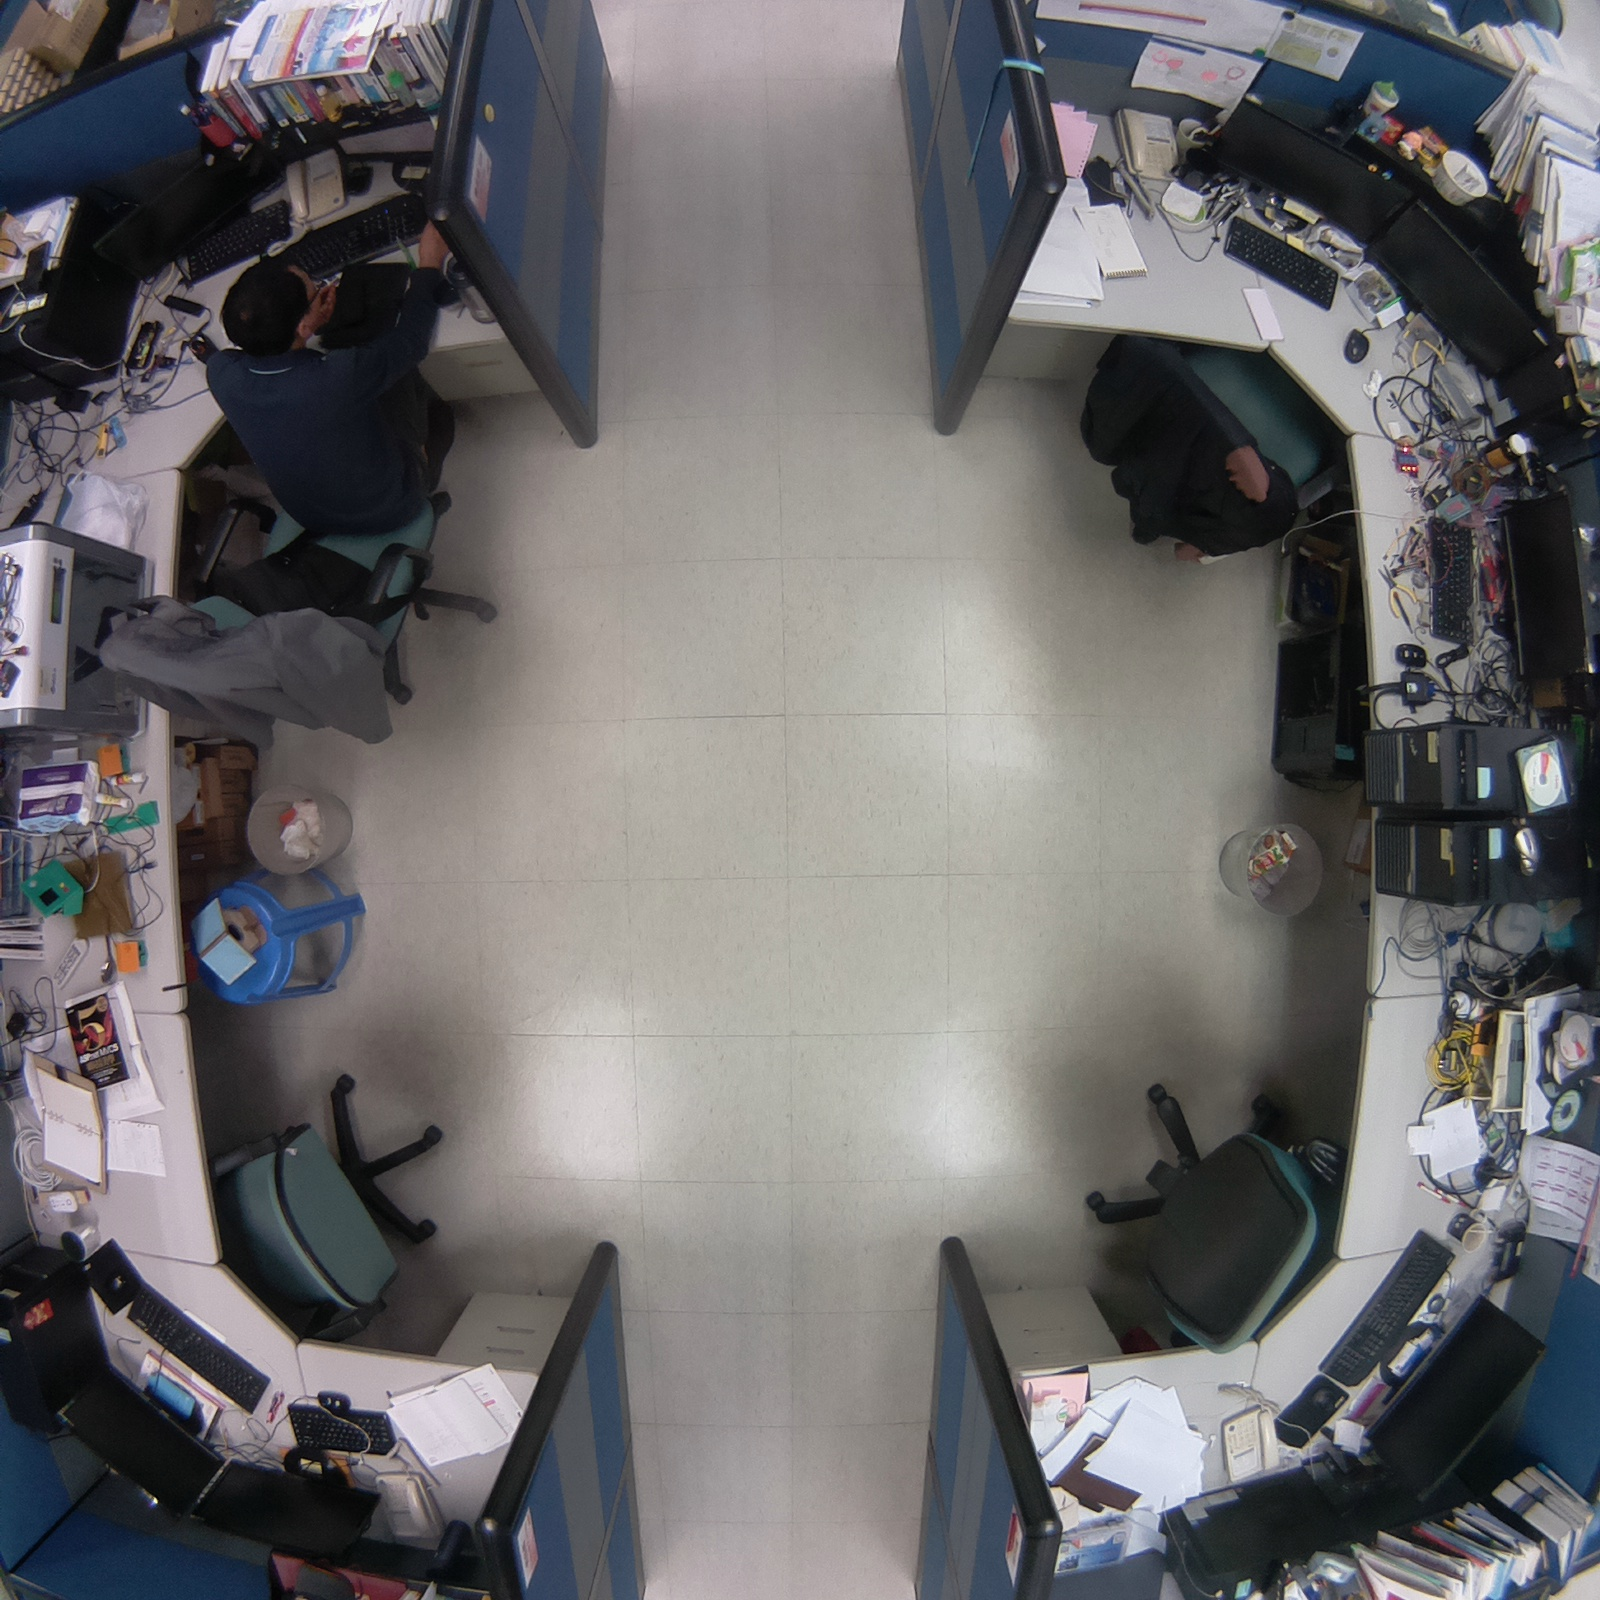chair: (1073, 1063, 1353, 1360), (201, 1060, 476, 1355), (1076, 309, 1350, 573)
head: (212, 255, 329, 368)
sitting: (78, 196, 512, 755)
